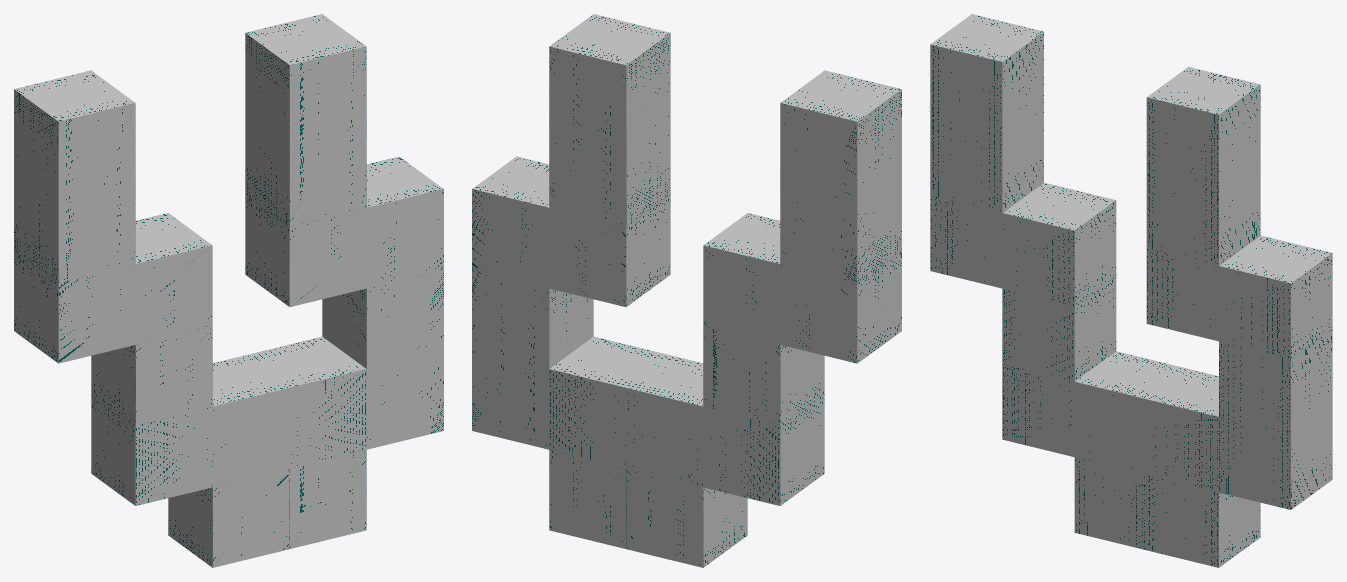
Rendered from grass-01.fbx.
3 renders of one model, left to right at view 1: azimuth 30°, elevation 25°; view 2: azimuth 150°, elevation 25°; view 3: azimuth 330°, elevation 25°, orthographic. The views are drawn at different scales.
Visible parts, largest first — view 1: generated; view 2: generated; view 3: generated.
Part boxes in pixels (bbox=[...]): generated: bbox=[14, 14, 443, 567]; generated: bbox=[472, 14, 901, 567]; generated: bbox=[930, 14, 1332, 567].
Size of the model in its own units: 50 by 60 by 10.
Materials: 1 (1 with a texture image).
